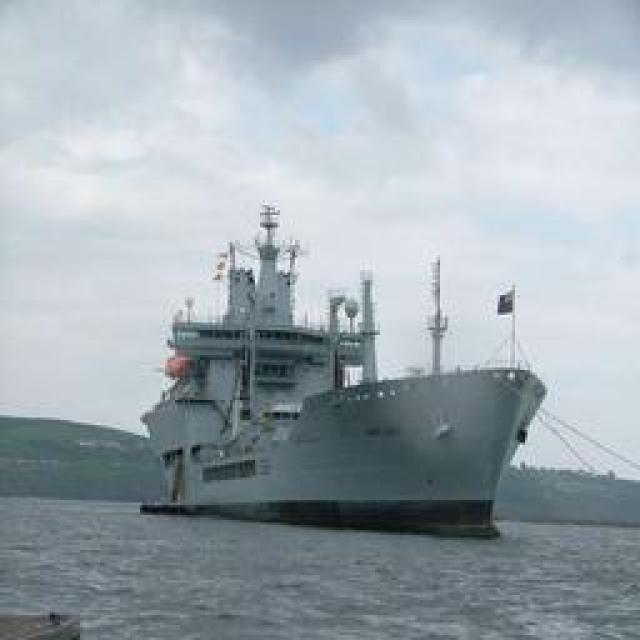Ship: (146, 283, 546, 528)
